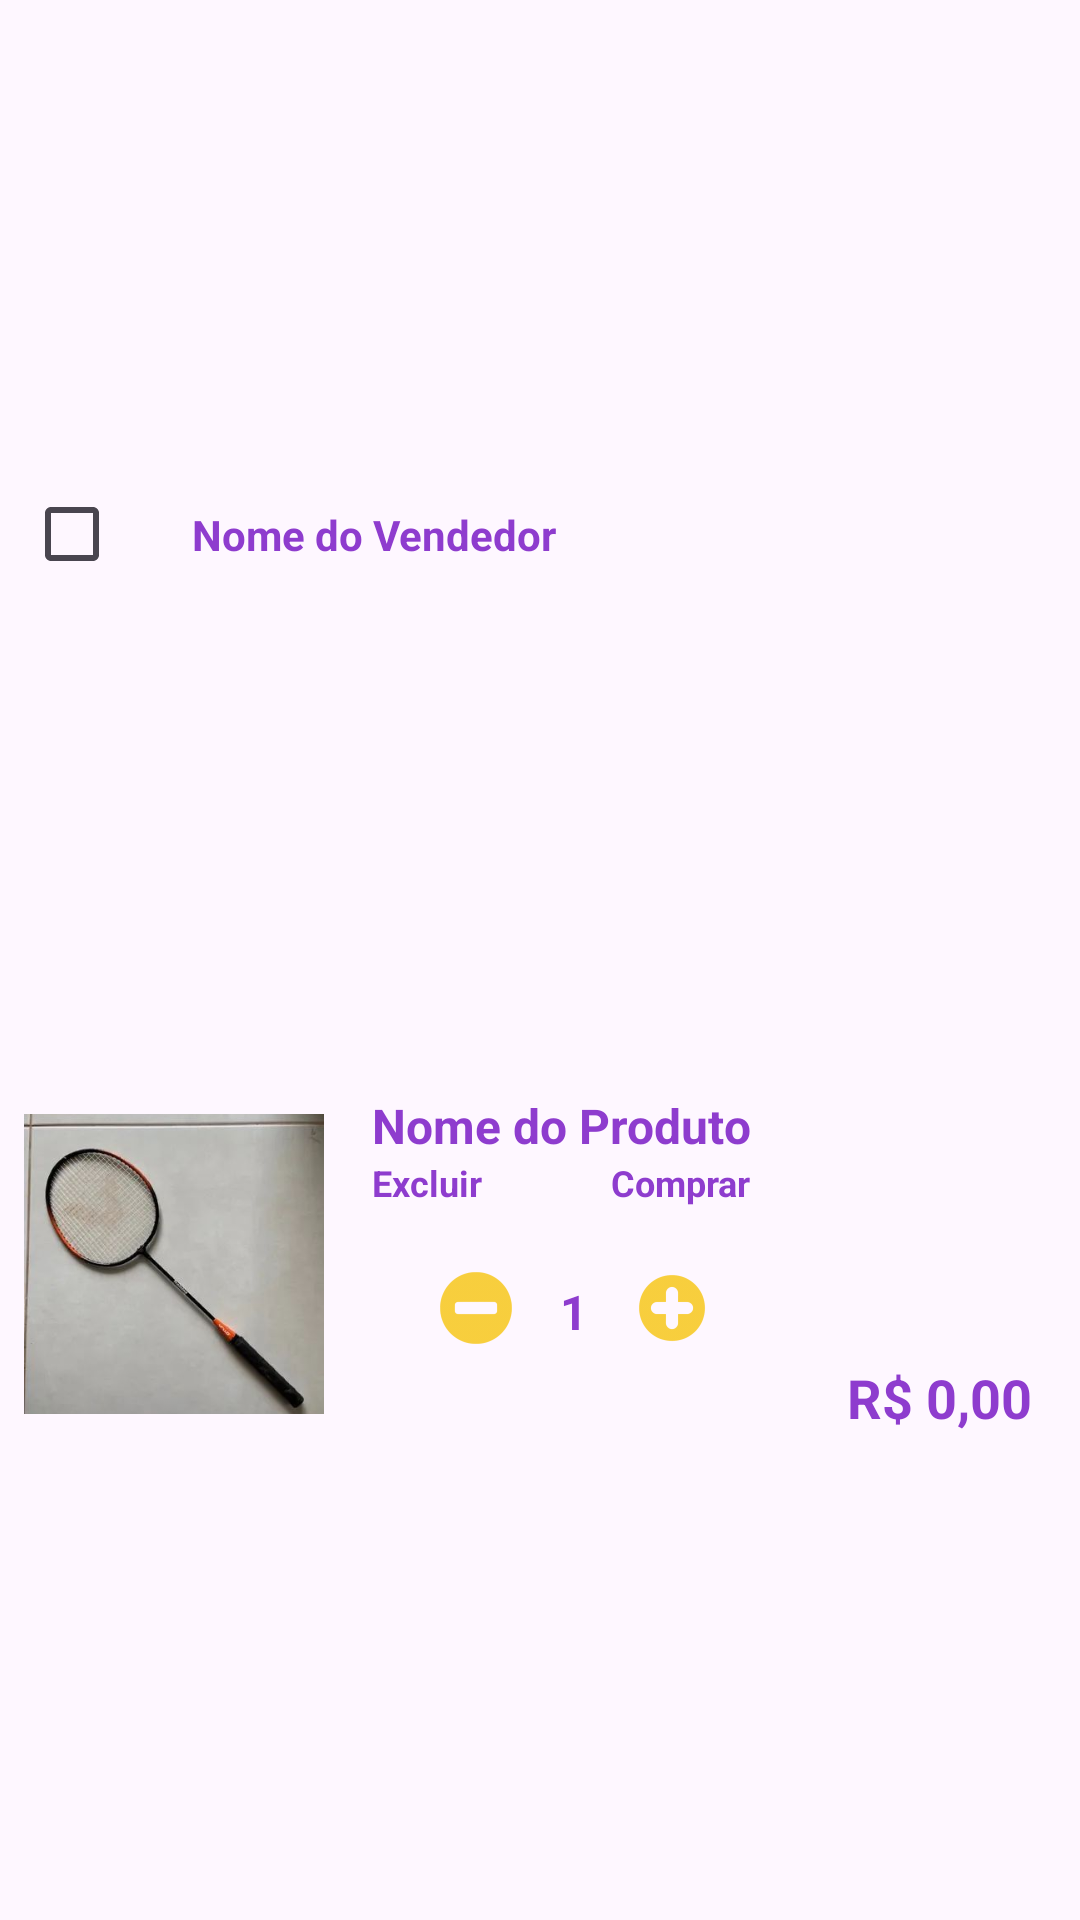

Icons on this 1080w x 1920h Android screen, each with its box as (x1,y1,x2,y2):
minus: (440,1272,512,1344)
plus: (639,1275,705,1341)
racket: (24,1114,324,1414)
